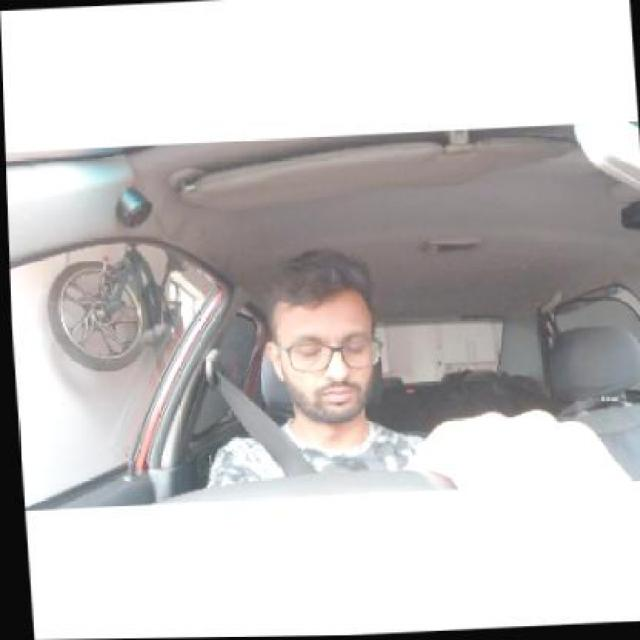drowsy: (255, 249, 389, 421)
